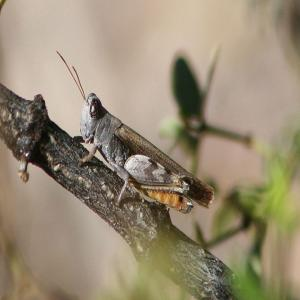locust: (69, 56, 235, 232)
